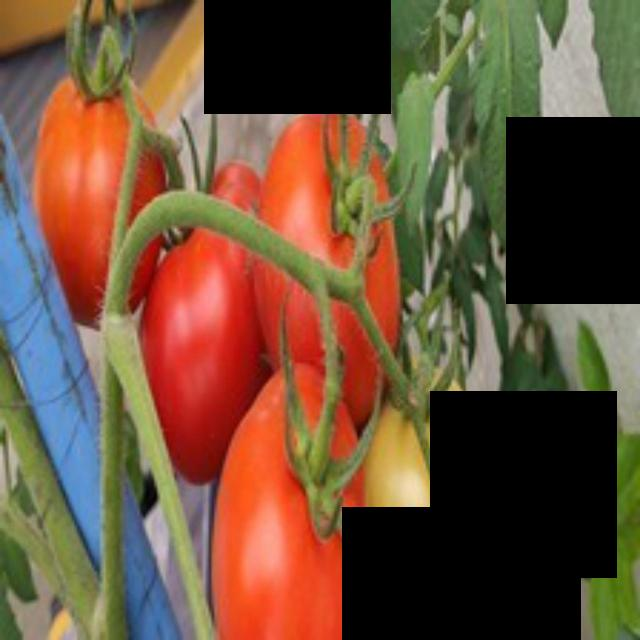tomato: (200, 366, 394, 636), (19, 66, 191, 328)
